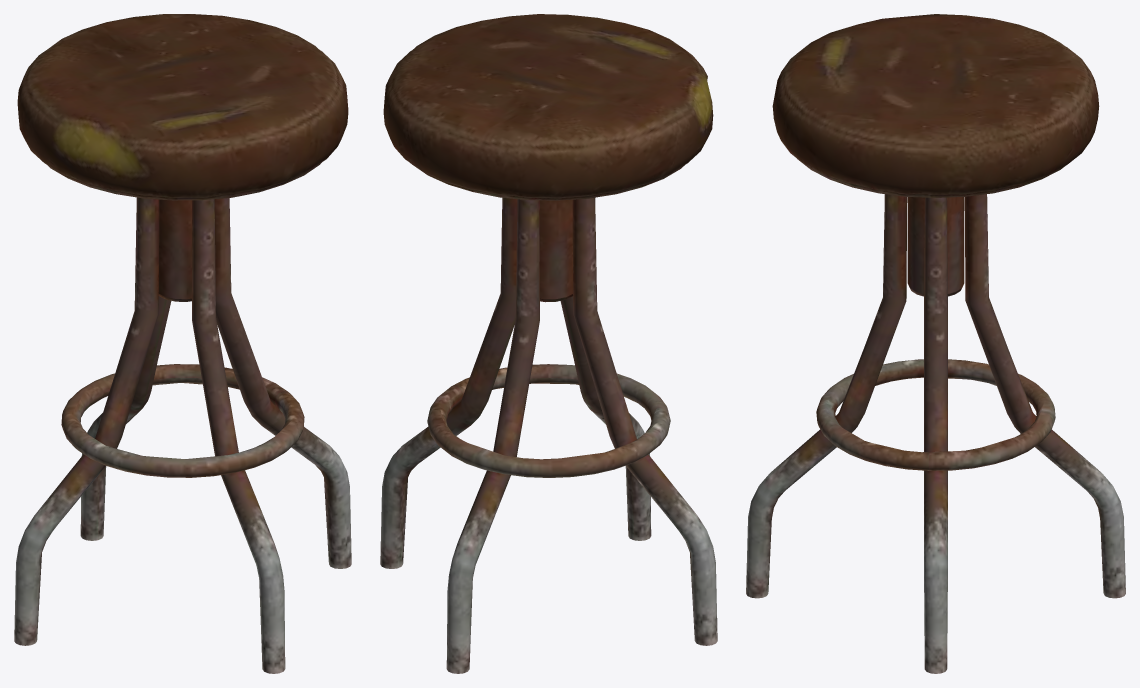
File: workbench.upgrade.comfort.visual.glb
The picture shows the model from 3 angles, left to right: view 1: azimuth 30°, elevation 25°; view 2: azimuth 150°, elevation 25°; view 3: azimuth 270°, elevation 25°; orthographic projection.
Parts seen in each view (by area): view 1: workbench.upgrade.comfort.visual; view 2: workbench.upgrade.comfort.visual; view 3: workbench.upgrade.comfort.visual.
Part boxes in pixels (x1,y1,x2,y2): workbench.upgrade.comfort.visual: (14, 14, 351, 673); workbench.upgrade.comfort.visual: (380, 14, 717, 673); workbench.upgrade.comfort.visual: (746, 14, 1125, 673).
Size of the model in its own units: 0.4018 by 0.6088 by 0.4018.
1 material, 1 textured.
